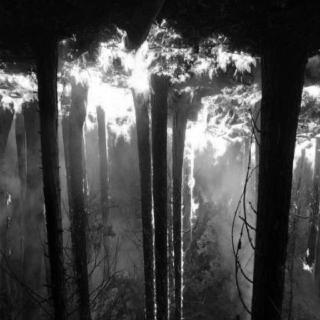Fire: (5, 18, 318, 314)
